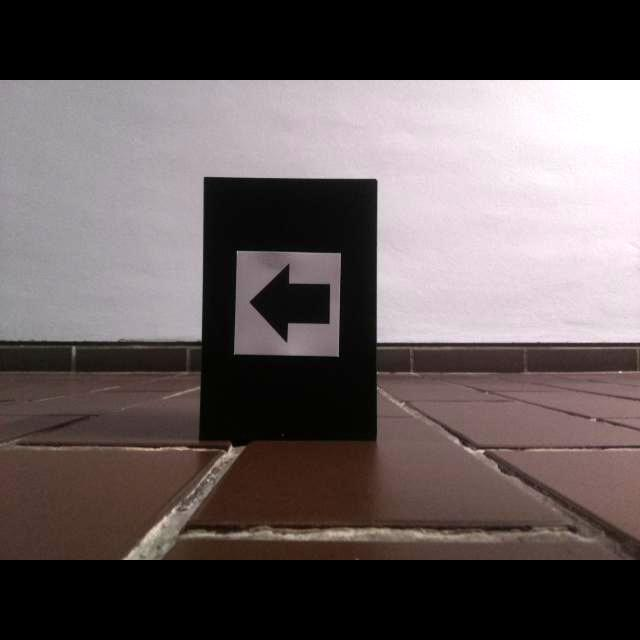LEFT: (249, 261, 331, 344)
